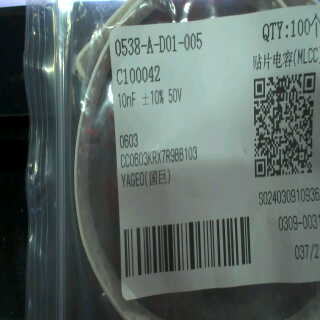10nF: (116, 90, 140, 110)
